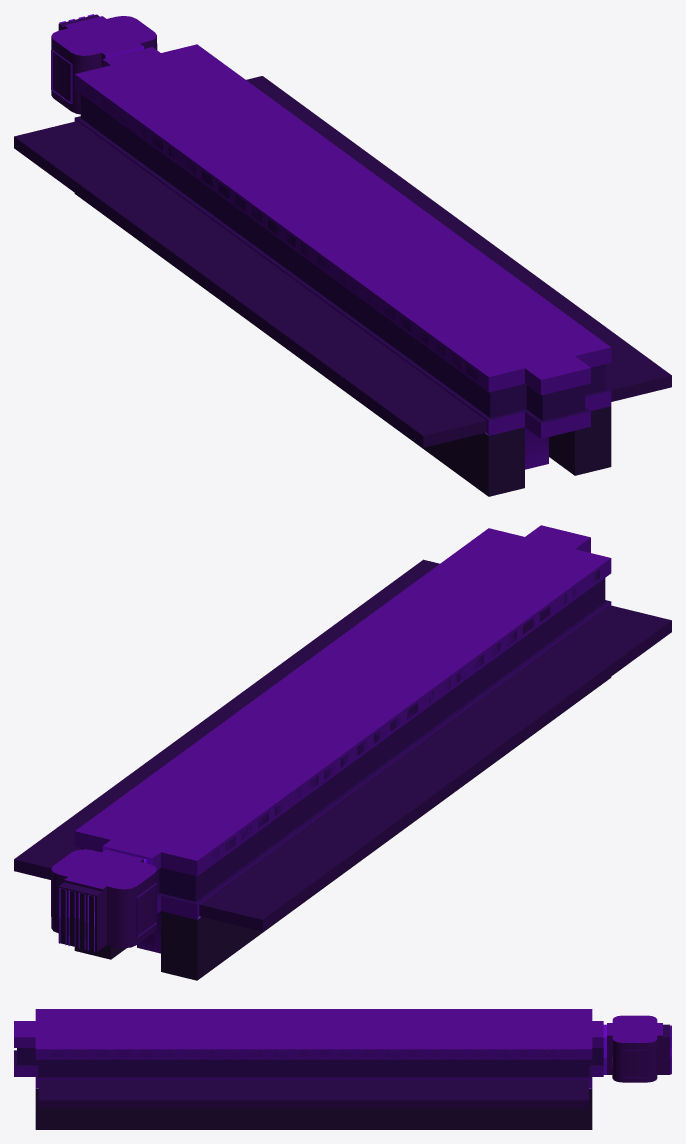
File: level1_level.obj
3 renders of one model, top to bottom at view 1: azimuth 30°, elevation 25°; view 2: azimuth 150°, elevation 25°; view 3: azimuth 270°, elevation 25°, orthographic. The views are drawn at different scales.
Parts seen in each view (by area): view 1: levelB_Cube, roof_Cube.003, lampT_Cube.004; view 2: levelB_Cube, roof_Cube.003, lampT_Cube.004; view 3: levelB_Cube, roof_Cube.003, lampT_Cube.004.
Part boxes in pixels (left/top/right/bottom): levelB_Cube: left=14, top=14, right=671, bottom=496; roof_Cube.003: left=51, top=16, right=610, bottom=379; lampT_Cube.004: left=86, top=87, right=477, bottom=380; levelB_Cube: left=14, top=537, right=671, bottom=980; roof_Cube.003: left=51, top=525, right=610, bottom=889; lampT_Cube.004: left=210, top=569, right=599, bottom=859; levelB_Cube: left=14, top=1024, right=671, bottom=1129; roof_Cube.003: left=14, top=1009, right=662, bottom=1049; lampT_Cube.004: left=51, top=1051, right=575, bottom=1057.
Size of the model in its own units: 31.55 by 14.53 by 108.
